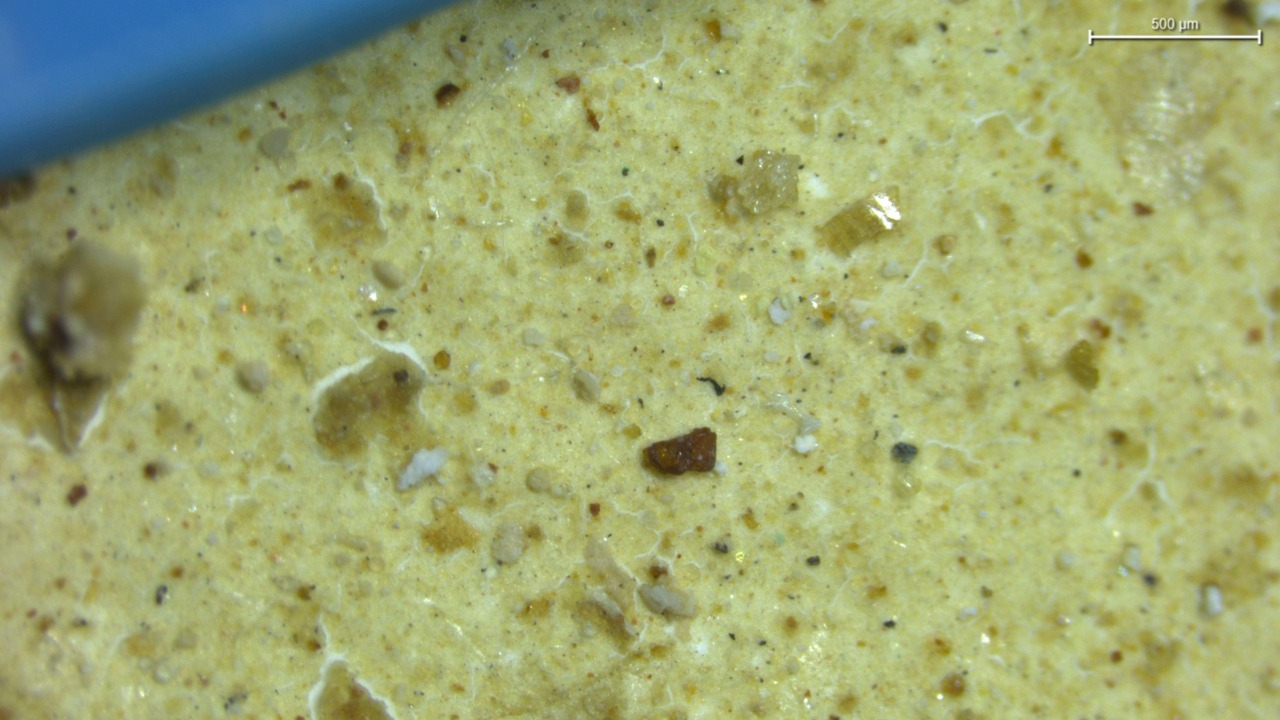microplastic_fragment: (398, 447, 449, 490)
